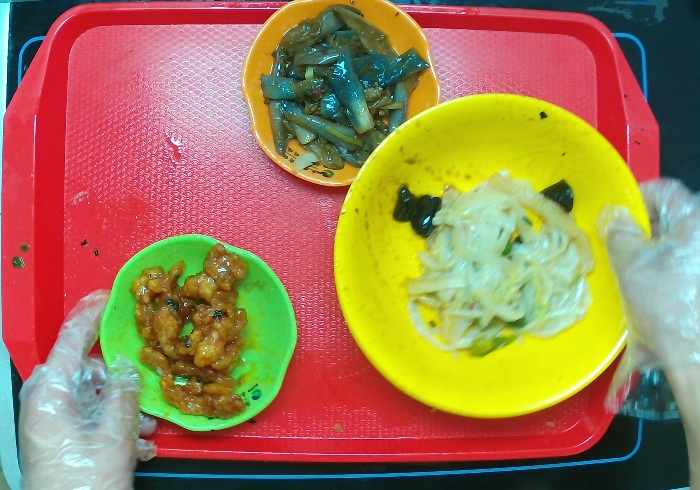YKMZ-Huang_Se_Tang_Wan: (328, 90, 649, 420)
YKMZ-Ju_Se_Ao_Bian_Wan: (239, 3, 441, 190)
YKMZ-Lv_Se_Ao_Bian_Wan: (96, 235, 298, 436)
